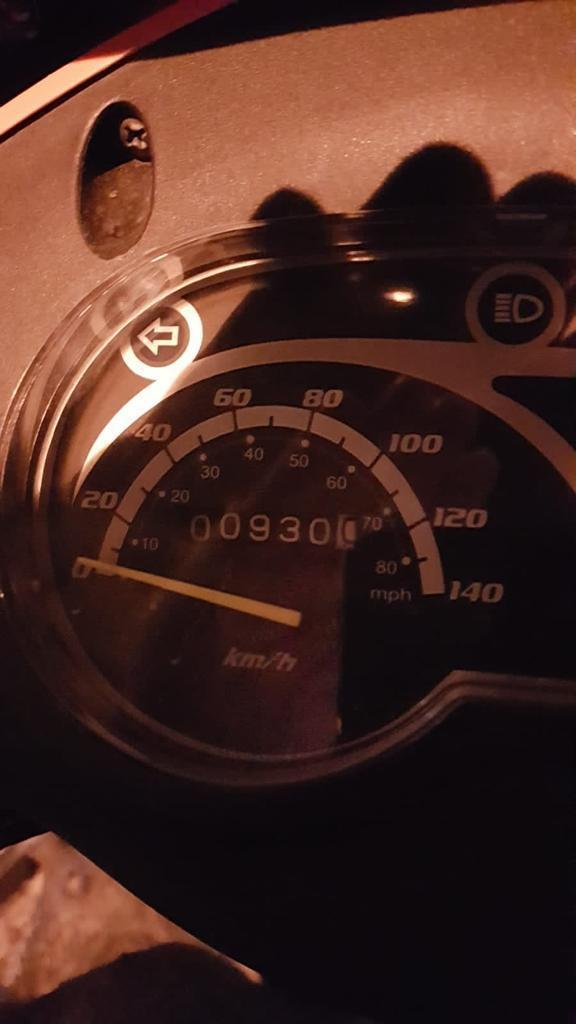0: (307, 514, 332, 548), (218, 510, 241, 543), (187, 513, 211, 544), (339, 514, 360, 547)
3: (279, 514, 302, 544)
9: (248, 512, 272, 540)
odometer: (174, 504, 363, 557)
